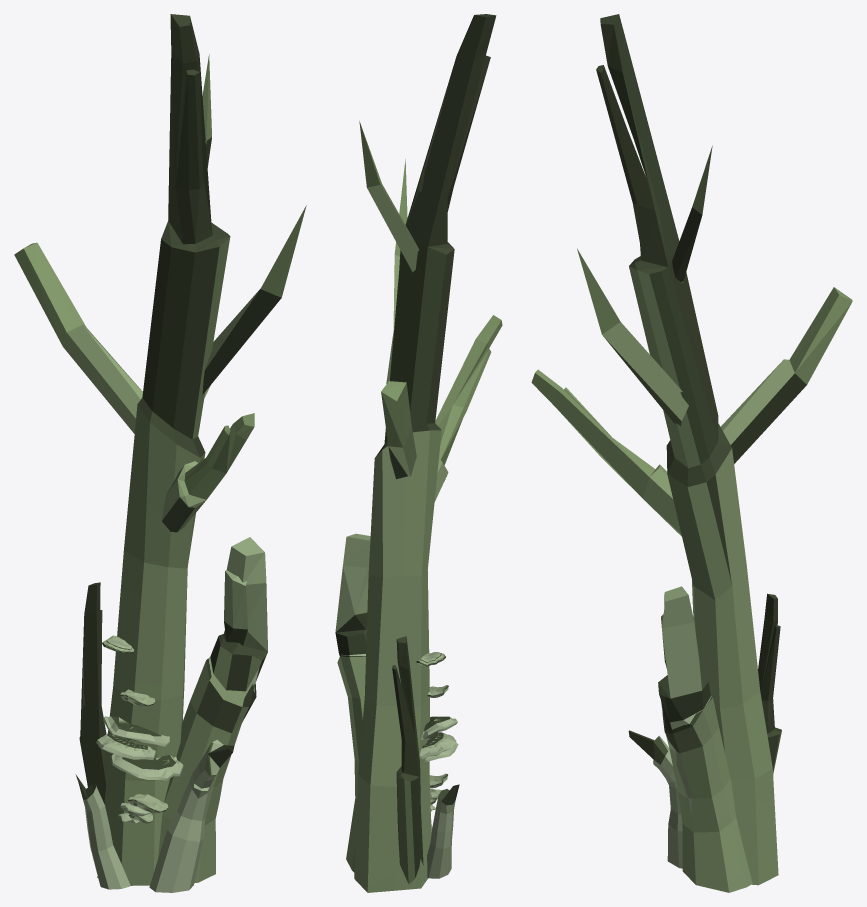
File: EA_Swamp_BrokenTree_02d.glb
3 renders of one model, left to right at view 1: azimuth 30°, elevation 25°; view 2: azimuth 150°, elevation 25°; view 3: azimuth 270°, elevation 25°, orthographic. The views are drawn at different scales.
Visible parts, largest first — view 1: EA_Swamp_BrokenTree_02d; view 2: EA_Swamp_BrokenTree_02d; view 3: EA_Swamp_BrokenTree_02d.
Boxes of the visible parts, x1,y1,x2,y2 form: EA_Swamp_BrokenTree_02d: (14,14,306,892); EA_Swamp_BrokenTree_02d: (335,14,502,892); EA_Swamp_BrokenTree_02d: (531,14,852,892).
Size of the model in its own units: 1.61 by 8.98 by 3.11.
1 material, 1 textured.
